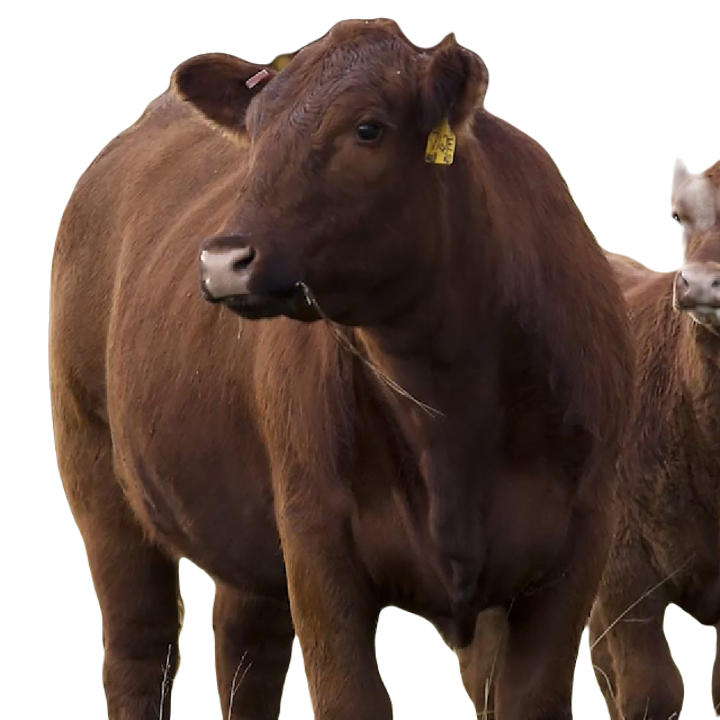Cow: (50, 18, 636, 719)
